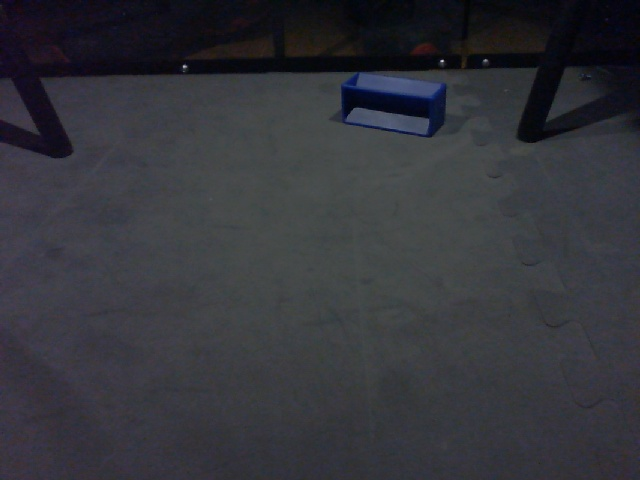BlueSample: (338, 71, 449, 138)
